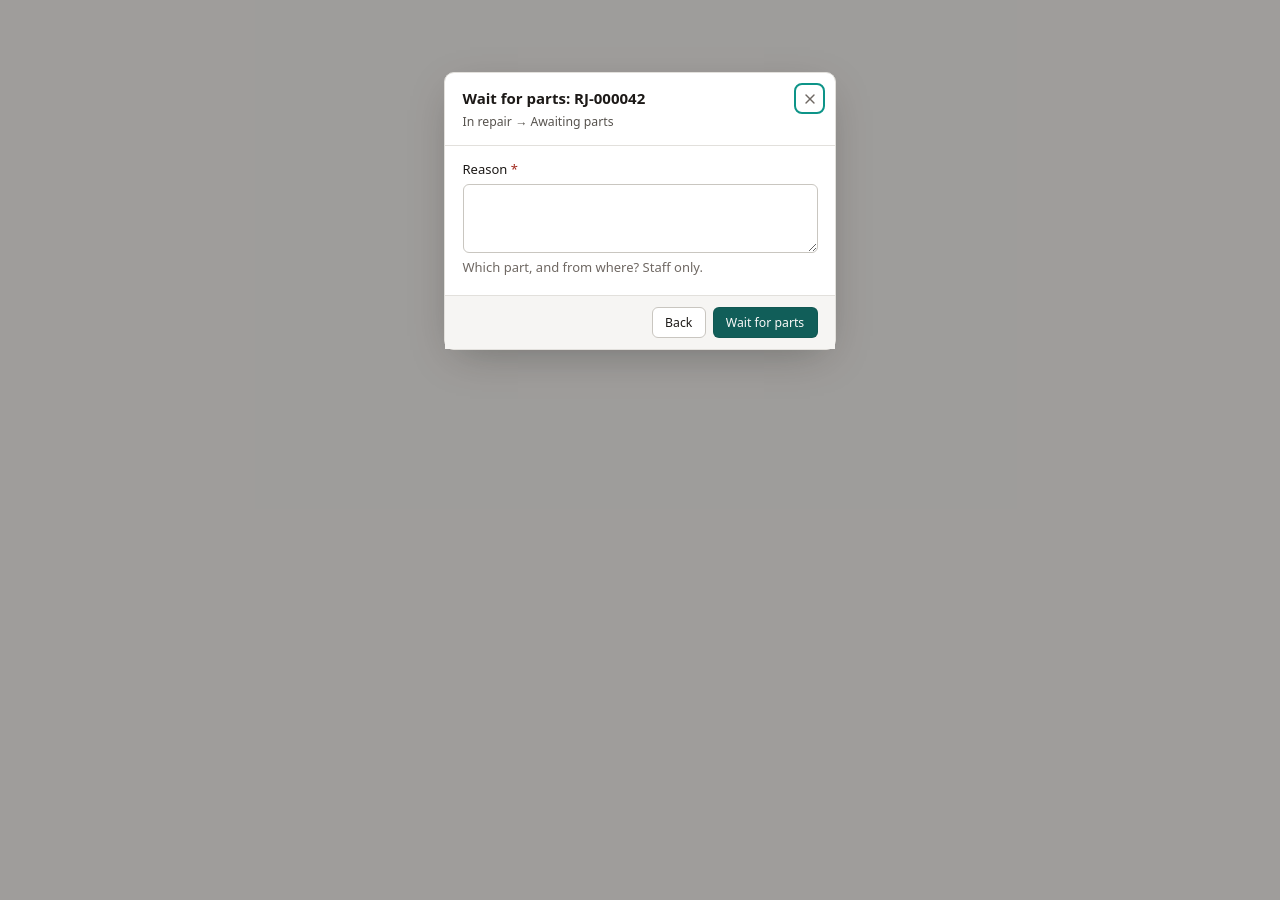
Scenario: MoveDialog › requires a reason to wait for parts and sends the version it was shown
Later steps or results of the test are not shown.
Click the button "Wait for parts" at [765, 322], box x1=713 y1=306 x2=818 y2=338
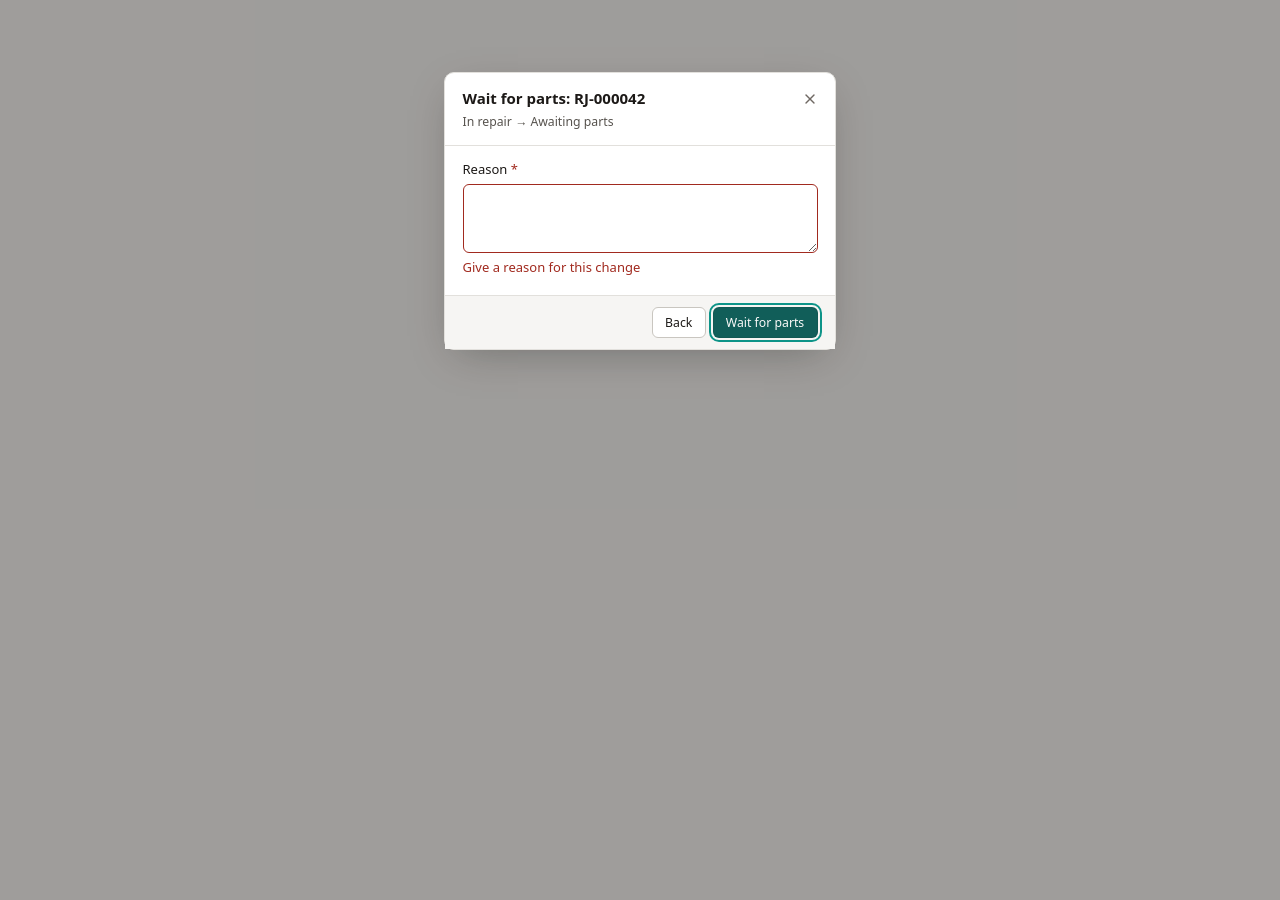
Result: the text "Give a reason for this change" is shown at x1=462 y1=258 x2=640 y2=276
